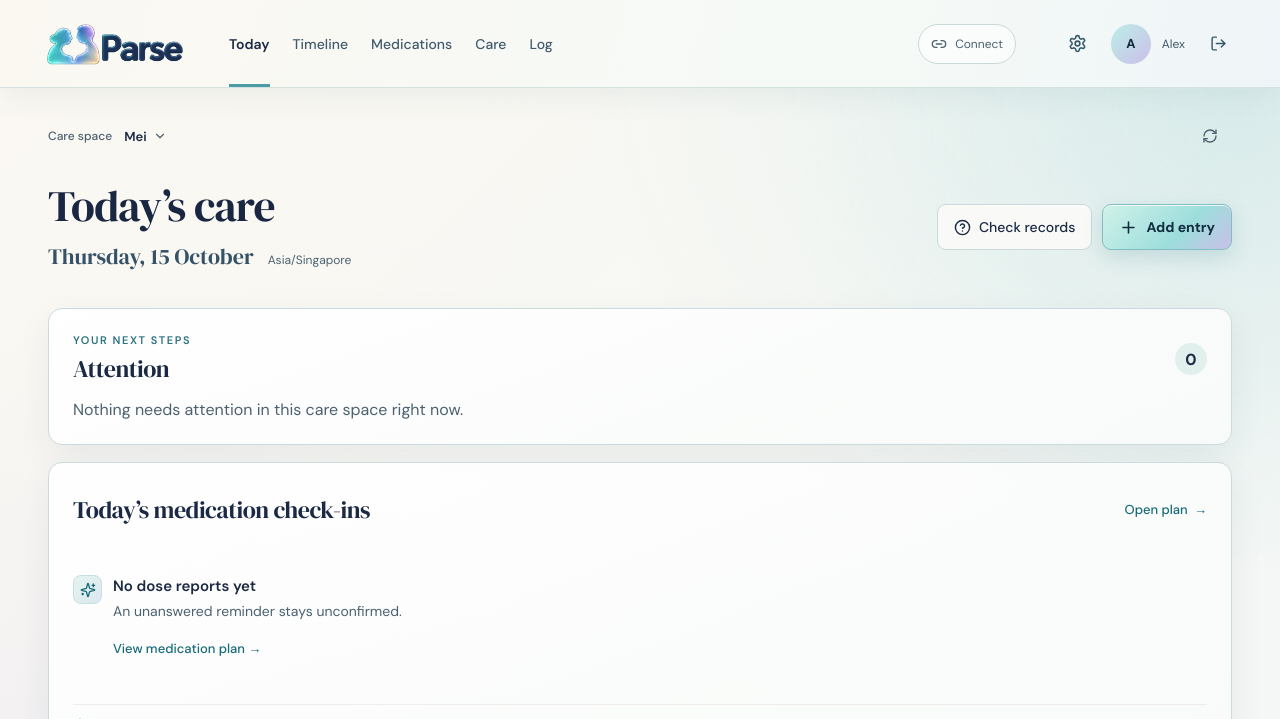
Test case: opens connection separately while Settings retains preferences and sharing
The width and height of the screenshot is (1280, 719).
Expected: the text "Nothing needs attention in this care space right now." is shown, [73, 400, 463, 420]
Click the button "Timeline" at point(320, 44), box [292, 0, 348, 87]
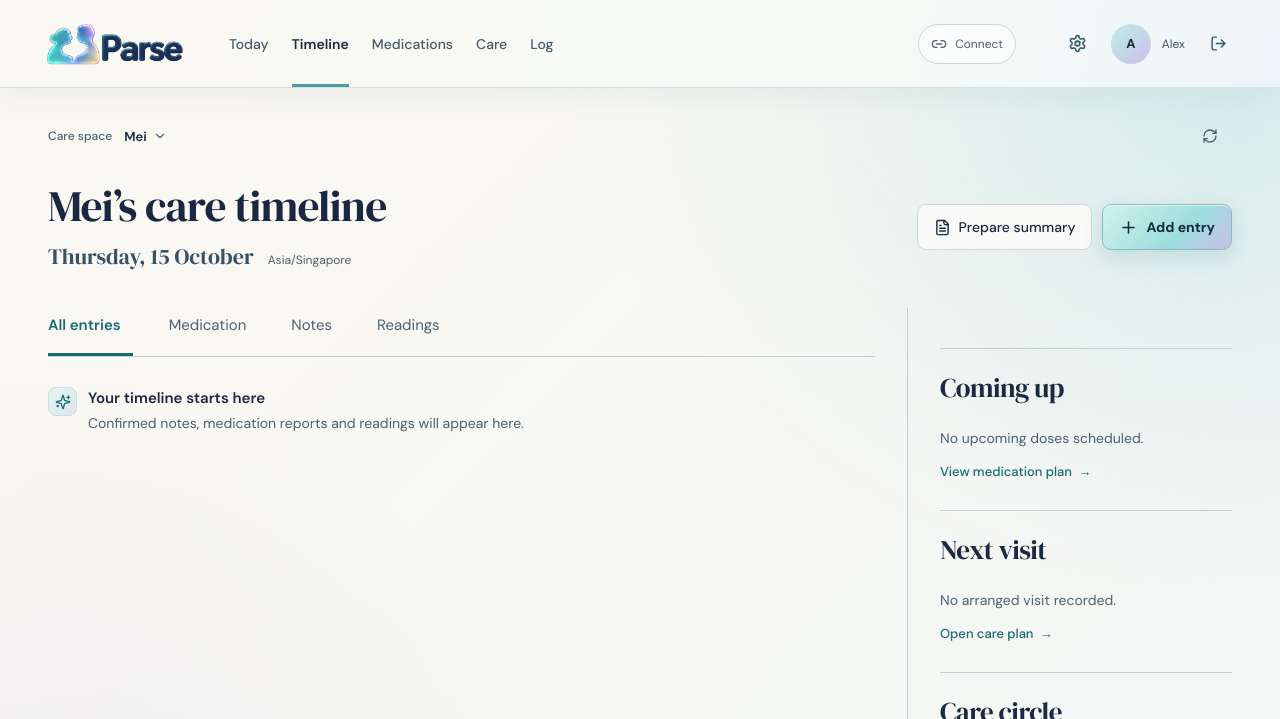
Click the button with aria-label "Companion connection: Connect" at point(967, 44), box [918, 24, 1016, 64]
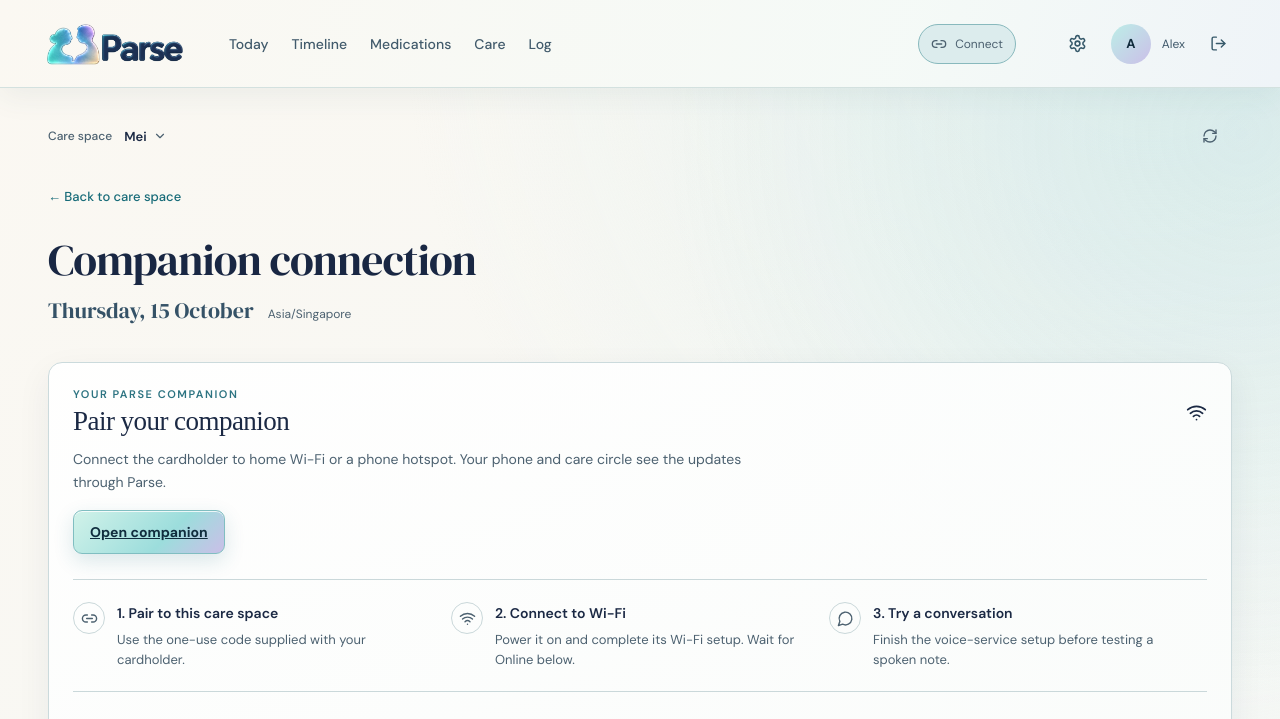
Result: the heading "Companion connection" is shown at [48, 236, 476, 286]
Result: the heading "Pair your companion" is shown at [73, 406, 289, 438]
Result: the button "Add entry" is gone
Click the button "← Back to care space" at point(115, 196), box [48, 174, 181, 218]
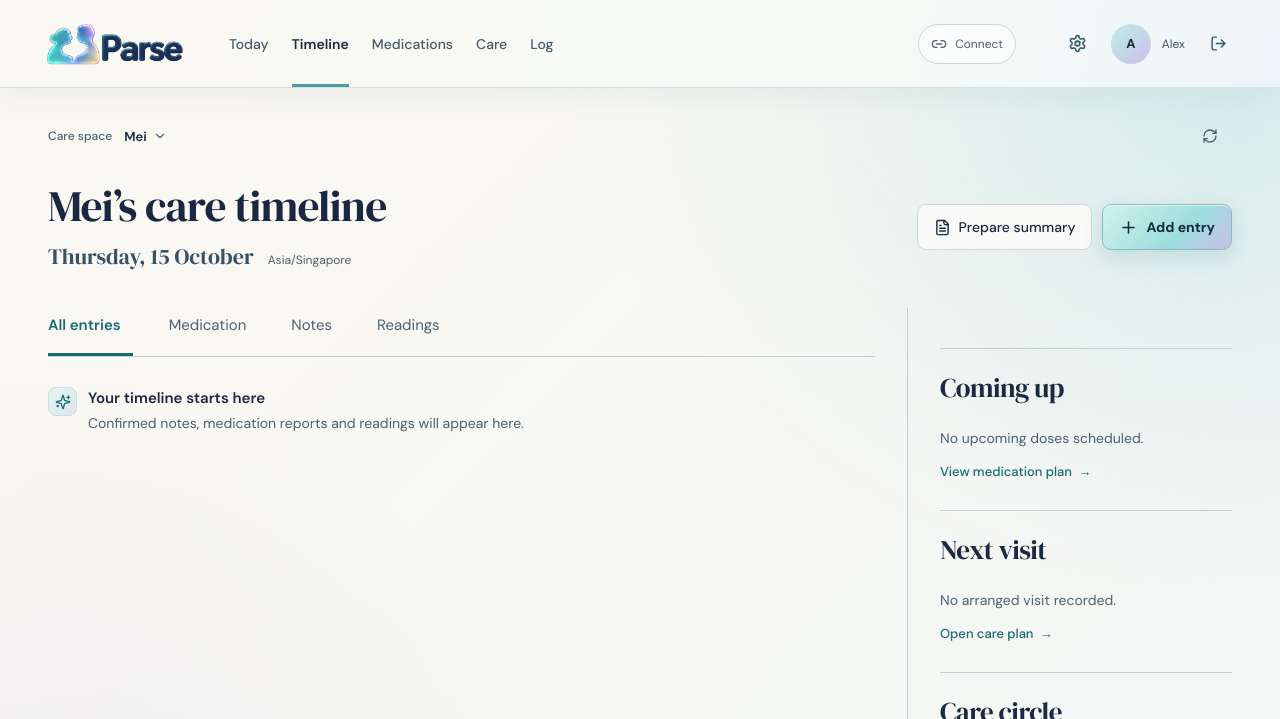
Result: the heading "Mei’s care timeline" is shown at [48, 182, 386, 232]
Click the button named "Settings" at point(1078, 44), box [1056, 22, 1100, 66]
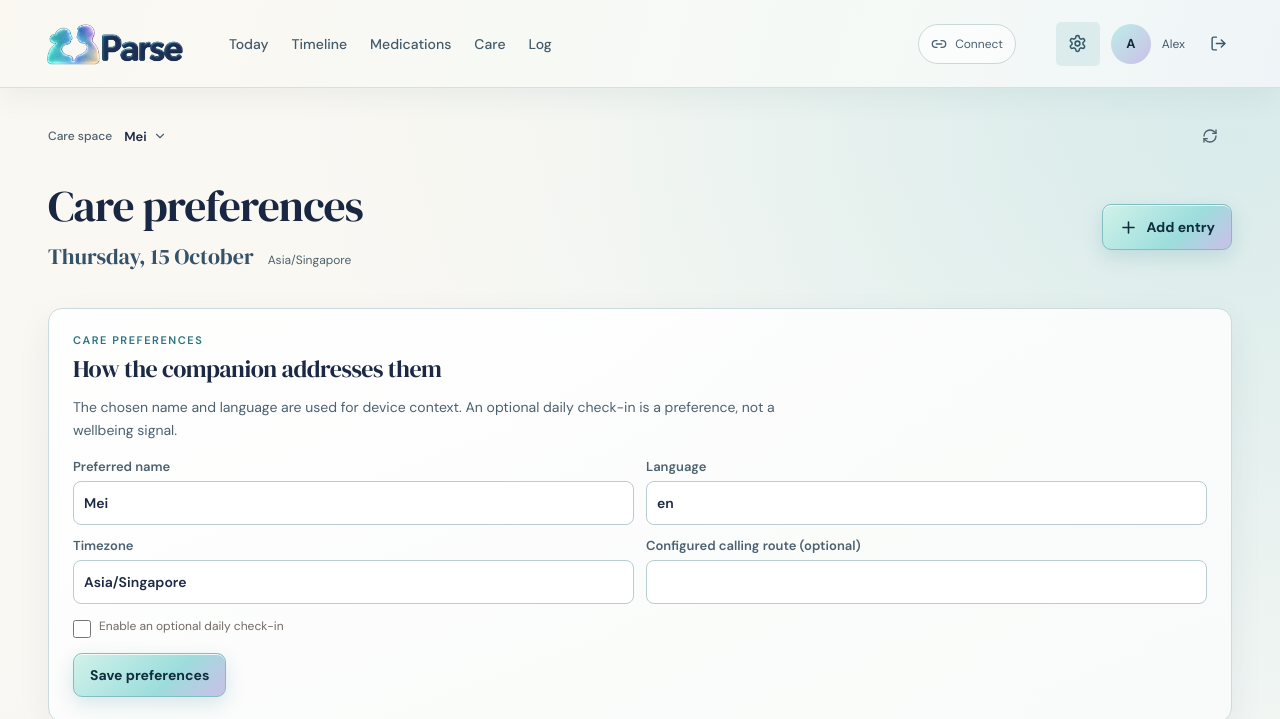
Expected: the heading "Pair your companion" is not shown
Result: the field labelled "Preferred name" is shown at [73, 481, 634, 525]
